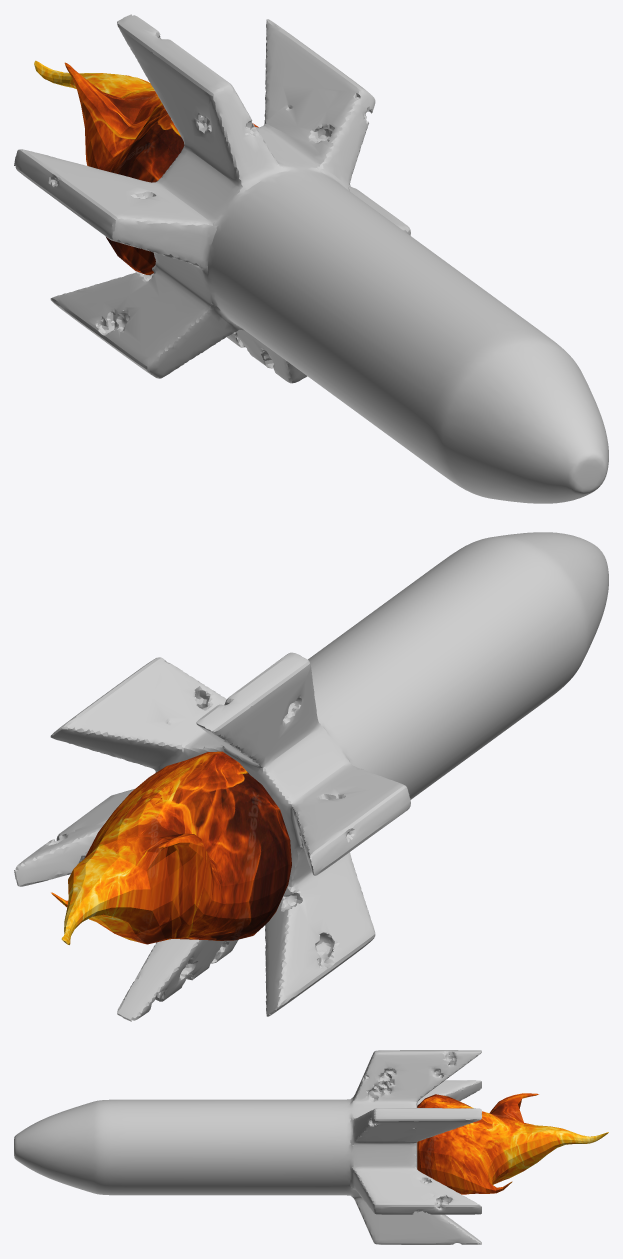
The model's file is rifleFire.obj.
3 renders of one model, top to bottom at view 1: azimuth 30°, elevation 25°; view 2: azimuth 150°, elevation 25°; view 3: azimuth 270°, elevation 25°, orthographic. The views are drawn at different scales.
Parts seen in each view (by area): view 1: OUT_body_0, 0; view 2: OUT_body_0, 0; view 3: OUT_body_0, 0.
Part boxes in pixels (box(x1,y1,x2,y2)): OUT_body_0: box(14, 14, 608, 503); 0: box(34, 60, 258, 274); OUT_body_0: box(14, 532, 608, 1021); 0: box(51, 751, 291, 944); OUT_body_0: box(14, 1050, 481, 1244); 0: box(417, 1093, 608, 1194).
Bounding box in the file's own units: 1.53 × 1.53 × 4.75.
